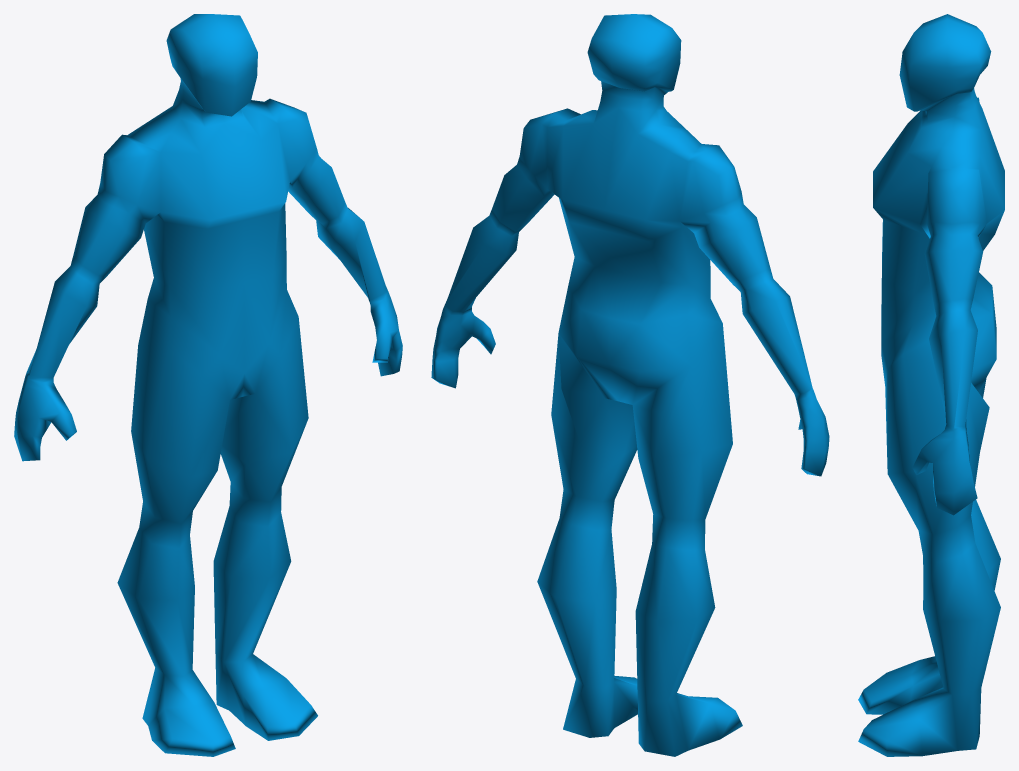
File: Blue .fbx
The picture shows the model from 3 angles, left to right: view 1: azimuth 30°, elevation 25°; view 2: azimuth 150°, elevation 25°; view 3: azimuth 270°, elevation 25°; orthographic projection. The views are drawn at different scales.
Parts seen in each view (by area): view 1: Start1; view 2: Start1; view 3: Start1.
Part boxes in pixels (bbox=[...]): Start1: bbox=[14, 14, 402, 756]; Start1: bbox=[431, 14, 829, 756]; Start1: bbox=[858, 14, 1004, 756].
Size of the model in its own units: 4.9 by 8.63 by 1.63.
